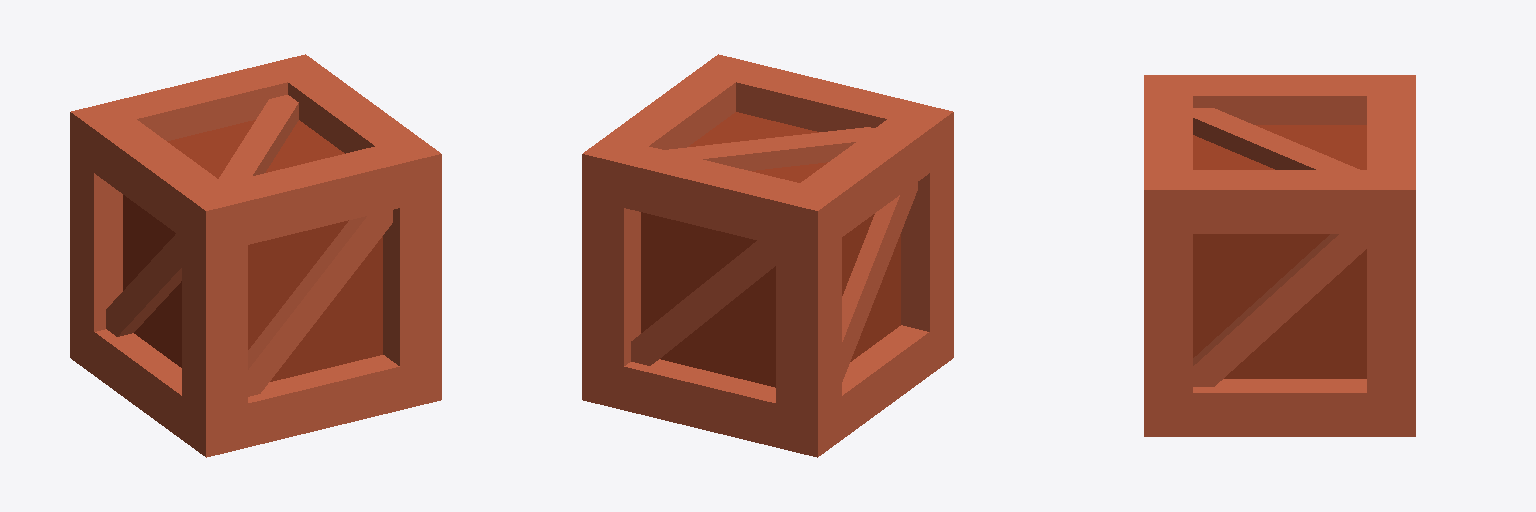
The model's file is Crate.obj.
The picture shows the model from 3 angles: view 1: azimuth 30°, elevation 25°; view 2: azimuth 150°, elevation 25°; view 3: azimuth 270°, elevation 25°; orthographic projection.
Visible parts, largest first — view 1: mergedBlocks; view 2: mergedBlocks; view 3: mergedBlocks.
Part boxes in pixels (x1,y1,x2,y2): mergedBlocks: (70,54,441,457); mergedBlocks: (582,54,953,457); mergedBlocks: (1144,75,1415,436).
Size of the model in its own units: 0.99 by 0.99 by 0.99.